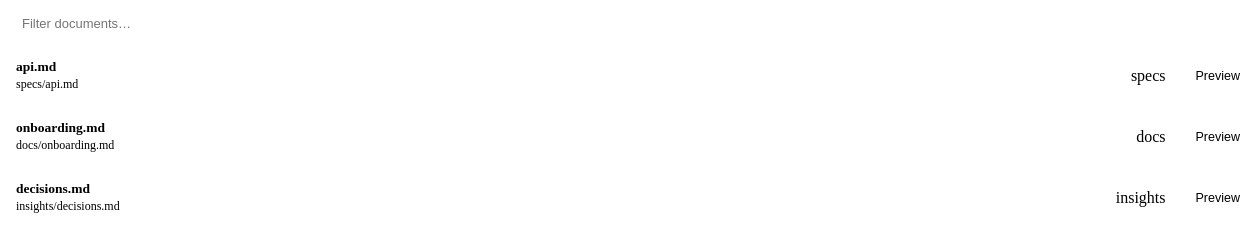
Test: ContextDocumentAttachList › filters the catalog by filename or path, case-insensitively
Type "ONBOARD" into the field with placeholder "Filter documents…" at (136, 24), box [20,15,252,32]
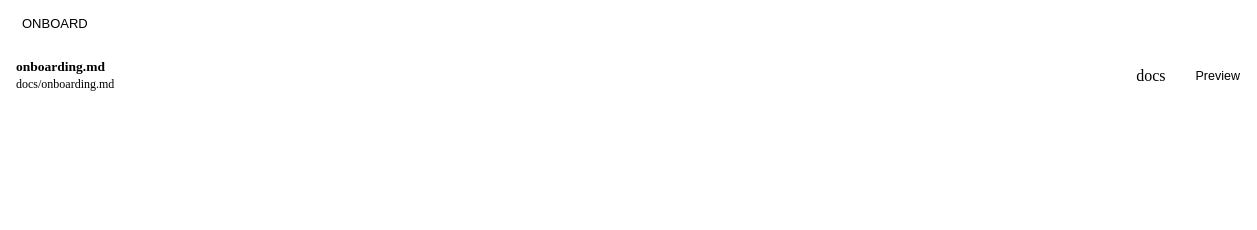
Expected: the text "onboarding.md" is shown, [16,59,105,74]
Expected: the text "api.md" is gone
Expected: the text "decisions.md" is gone
